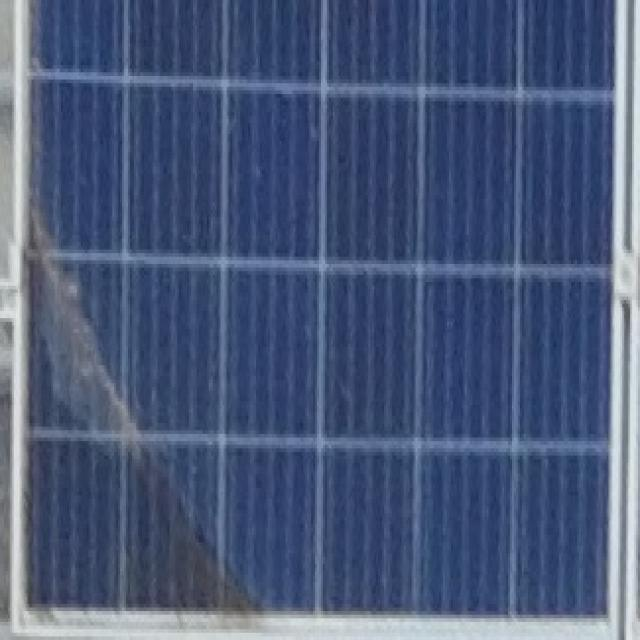Dust: (26, 203, 259, 629)
